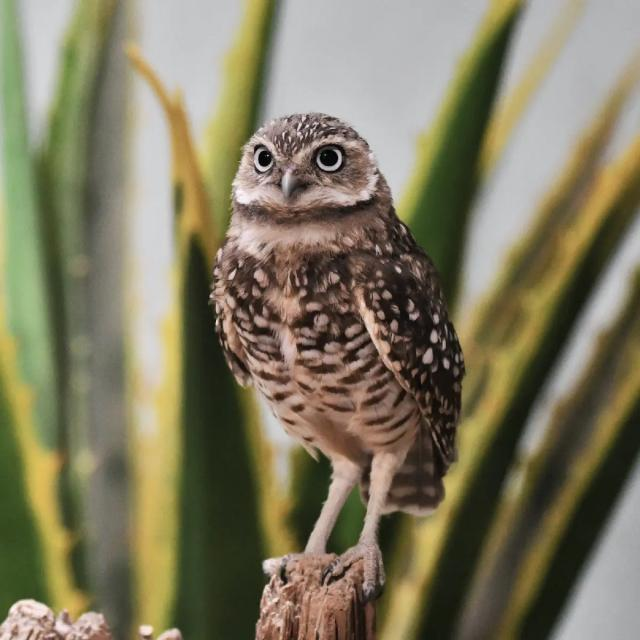owl: (155, 91, 552, 610)
